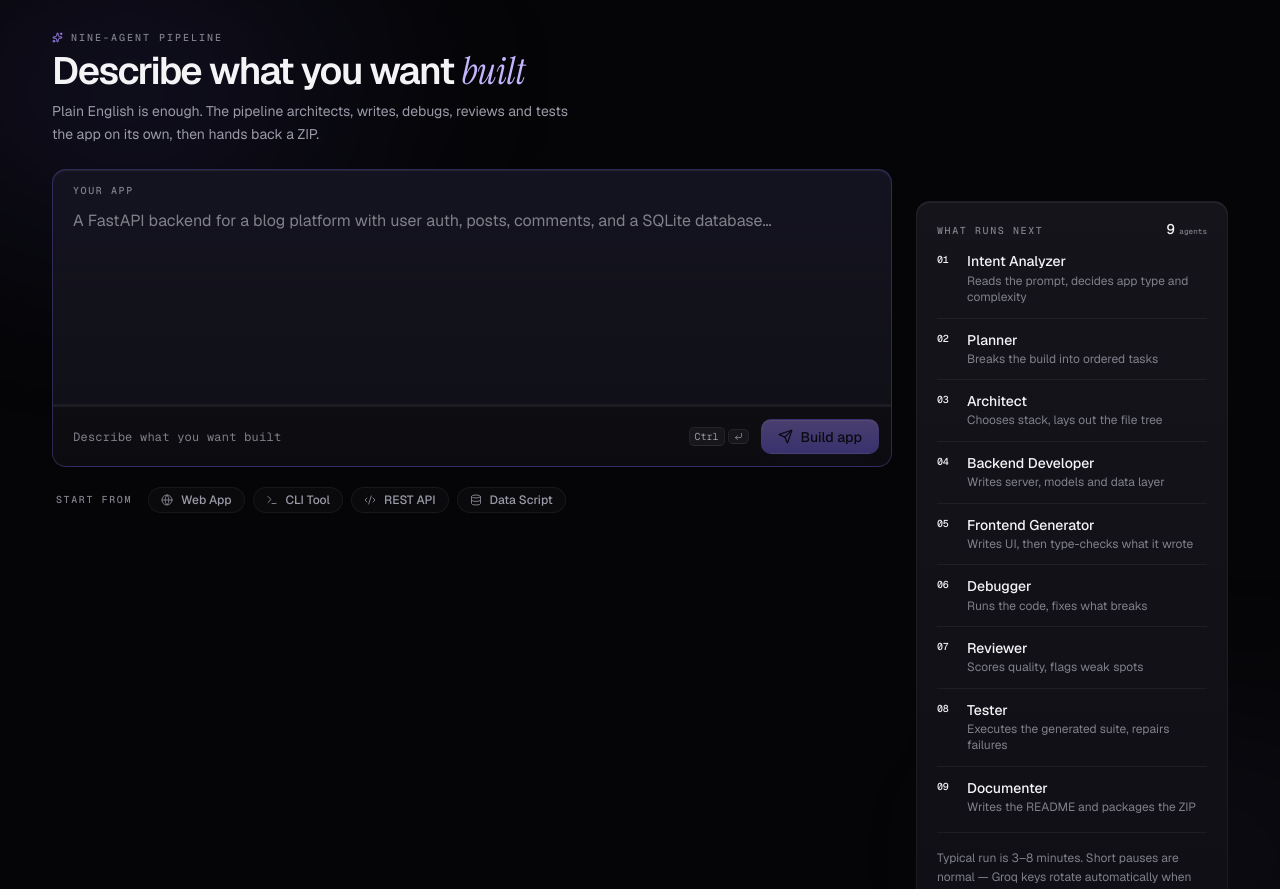
NewBuild › submission › surfaces a failure and lets the user try again
In the text box labelled "Your app": (472, 300) [53,196,891,404], type "A FastAPI URL shortener"
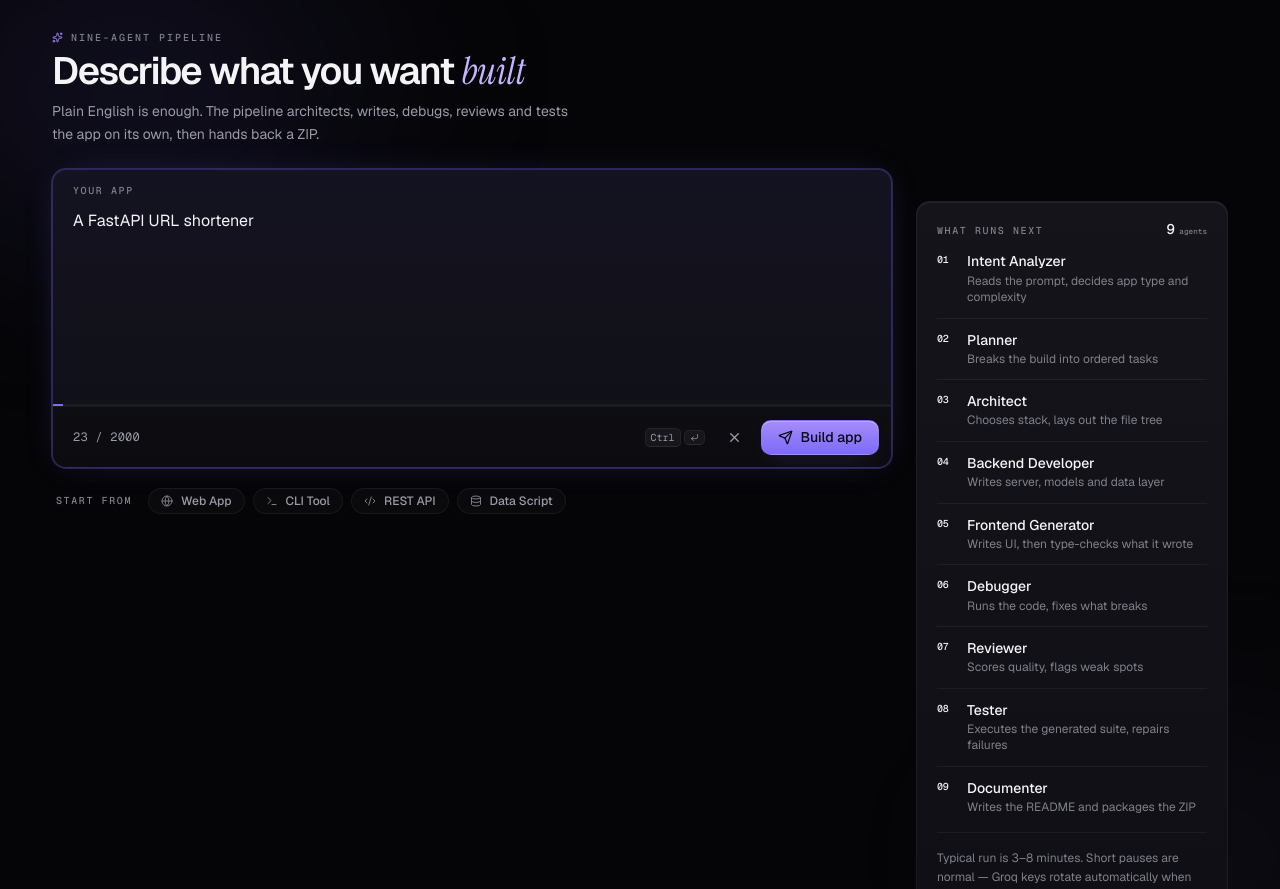
Click the button "Build app": (820, 437) [760,420,879,455]
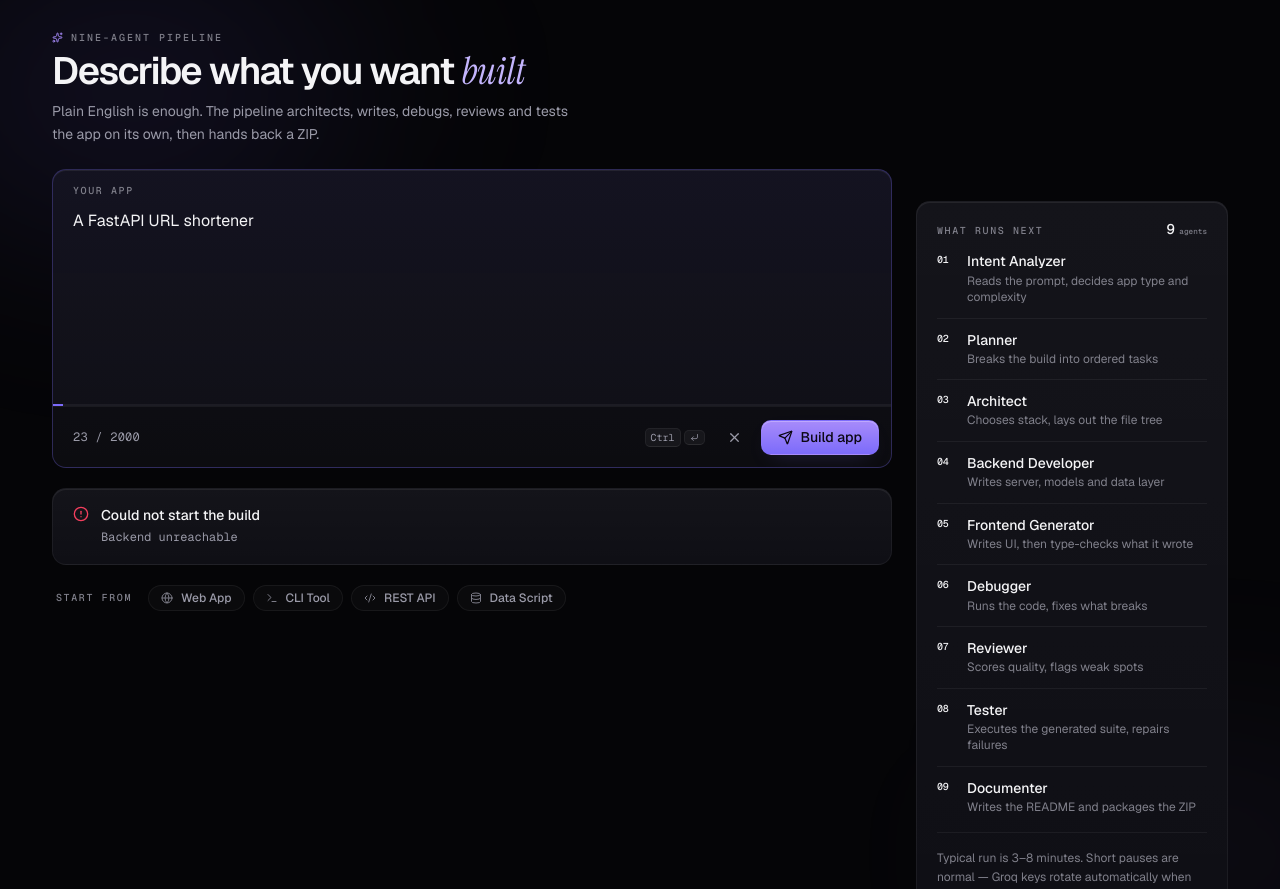
Expected: the button "Build app" is enabled, [760,420,879,455]
Expected: the message shows "Backend unreachable", [101,529,238,545]
